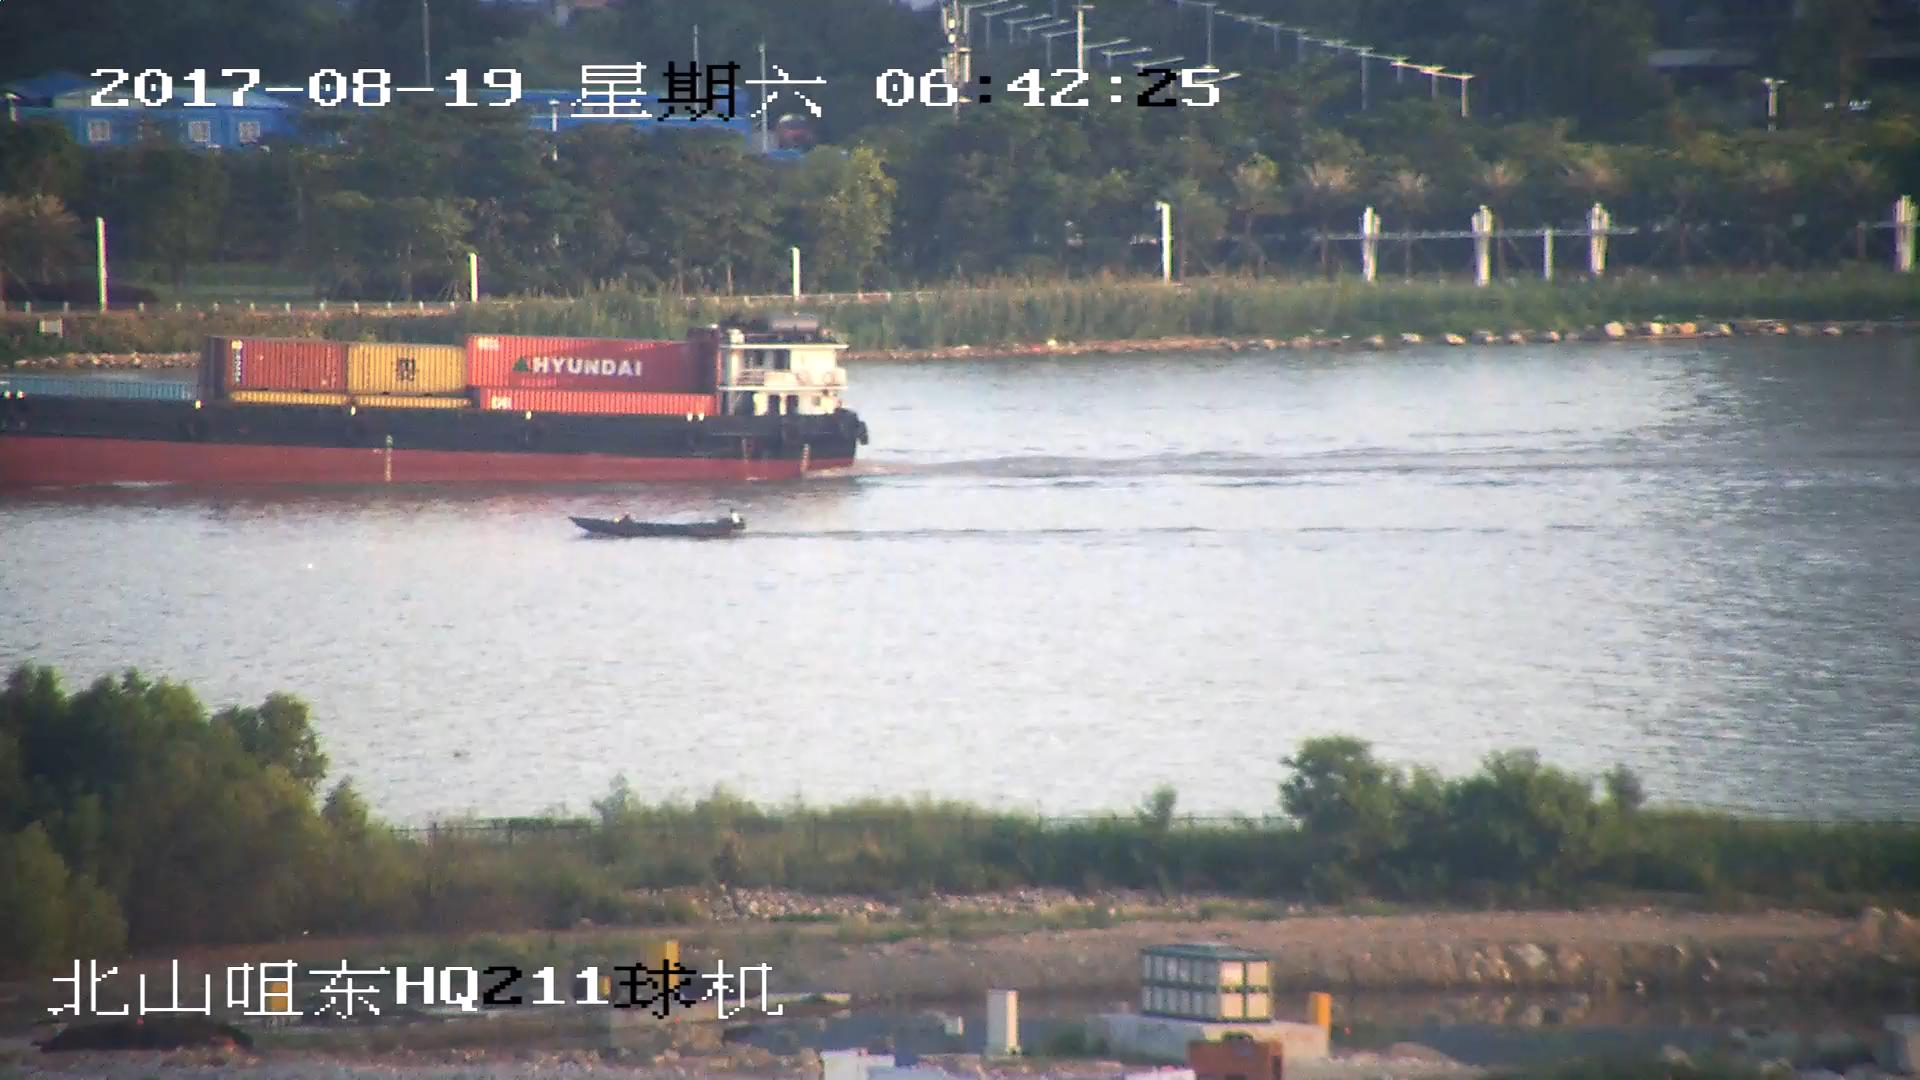container ship: (1, 317, 867, 495)
fishing boat: (569, 512, 746, 544)
